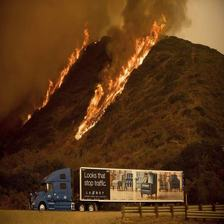fire: (28, 28, 171, 135)
